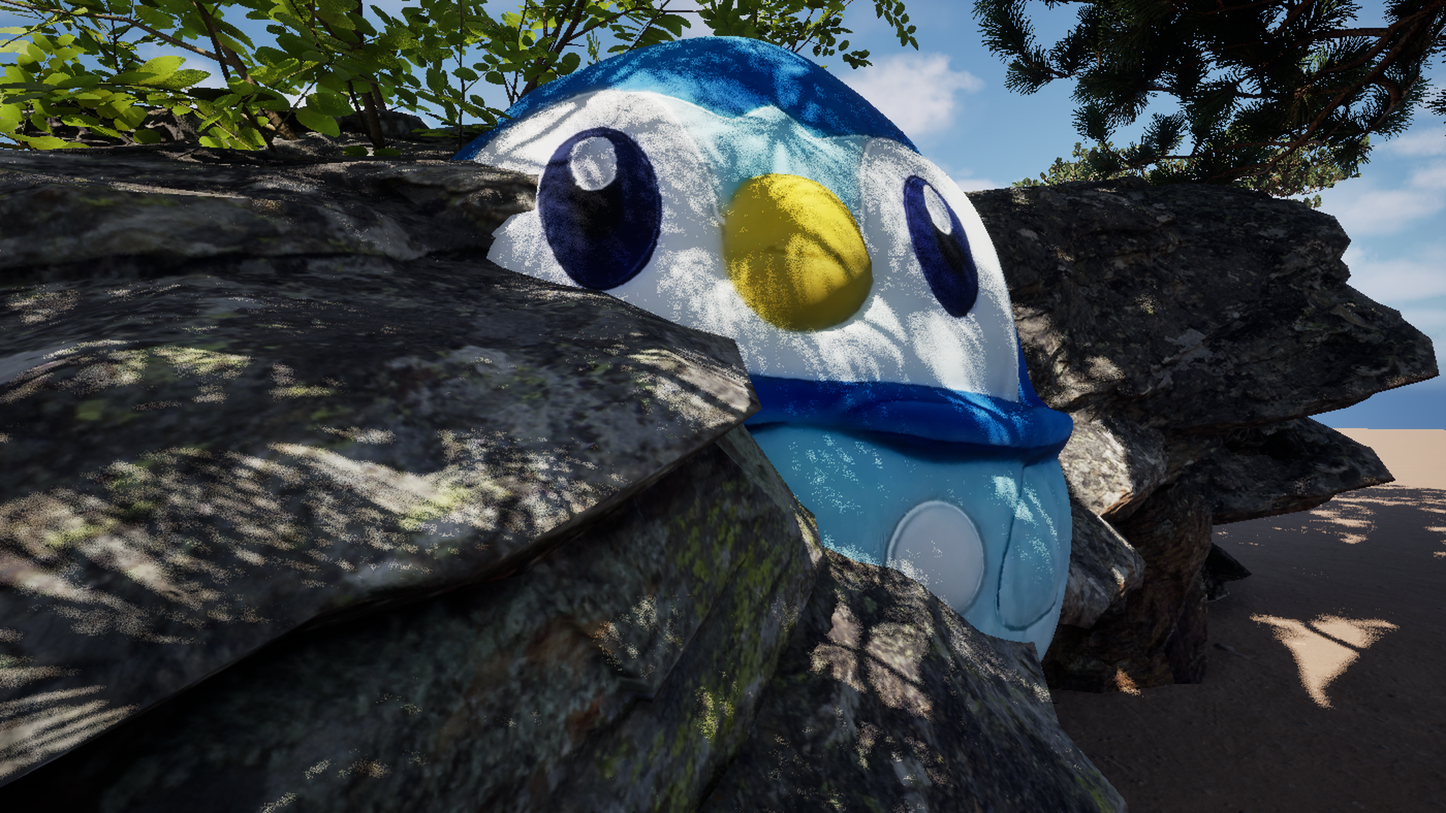Piplup: (13, 0, 1337, 813)
